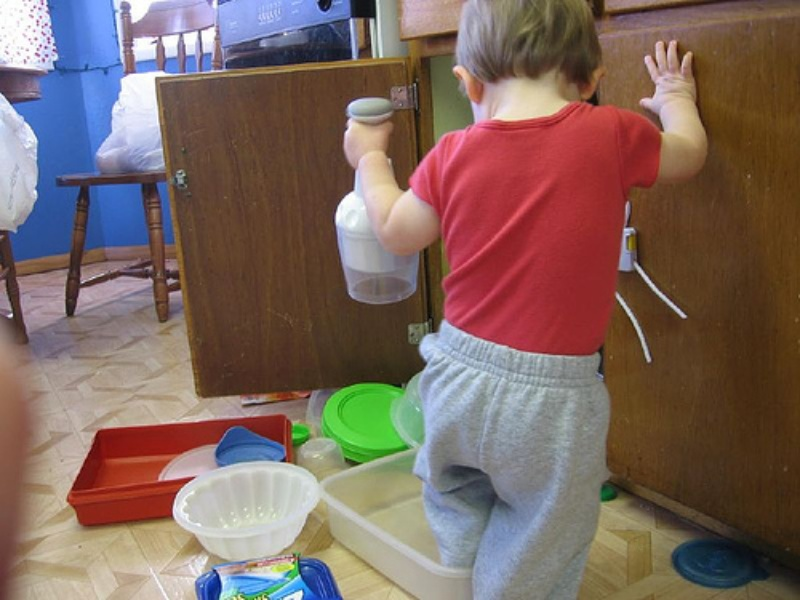person: (342, 1, 707, 600)
